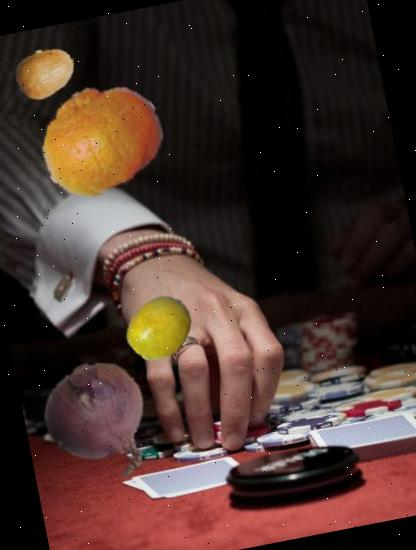Kiwi: (9, 36, 84, 110)
Mandarine: (26, 65, 174, 213)
Maracuja: (119, 287, 200, 368)
Onion: (27, 344, 176, 492)
